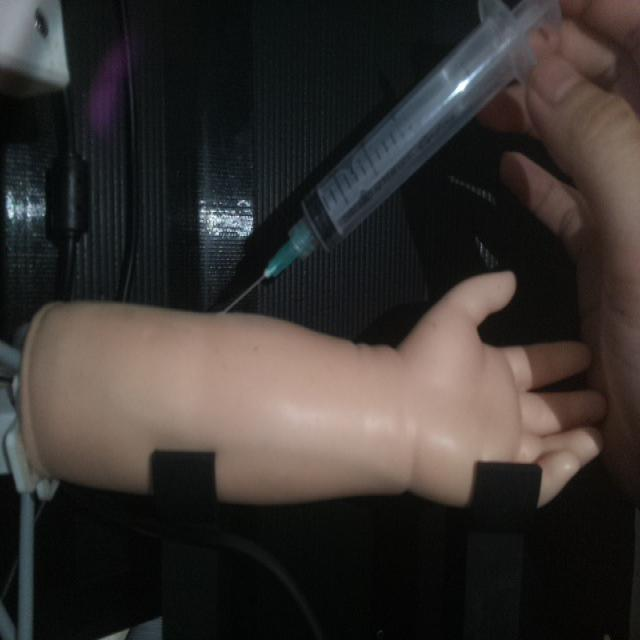Above 30 degrees: (217, 0, 566, 319)
